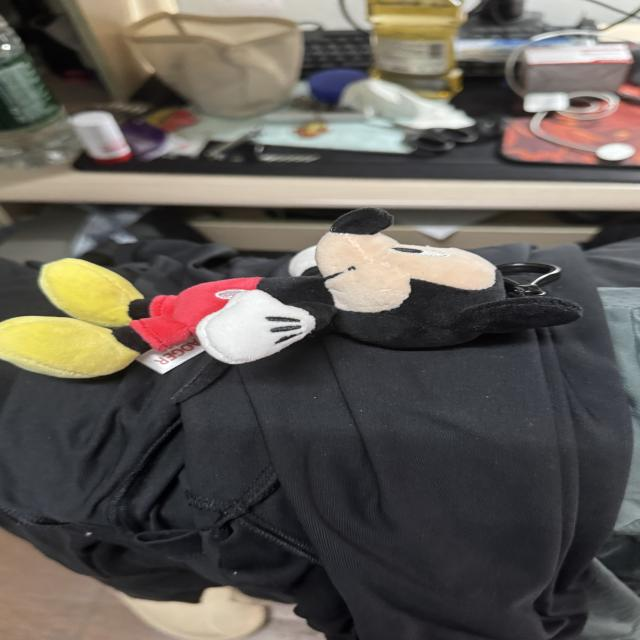mickey: (0, 209, 581, 378)
